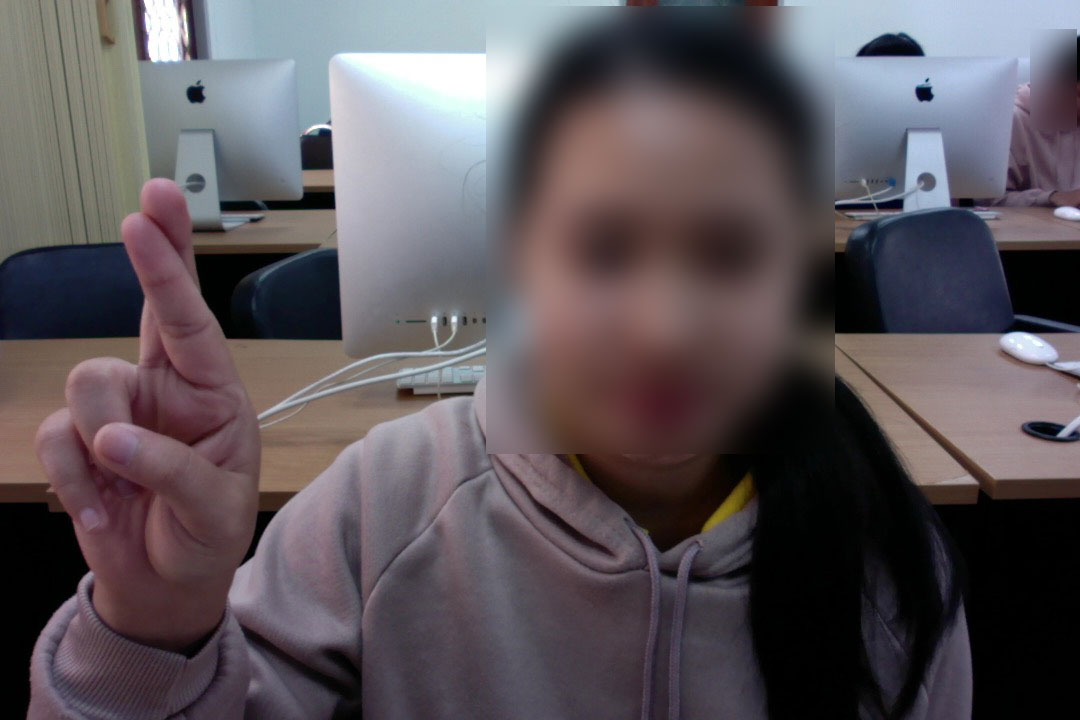rao: (35, 171, 272, 597)
